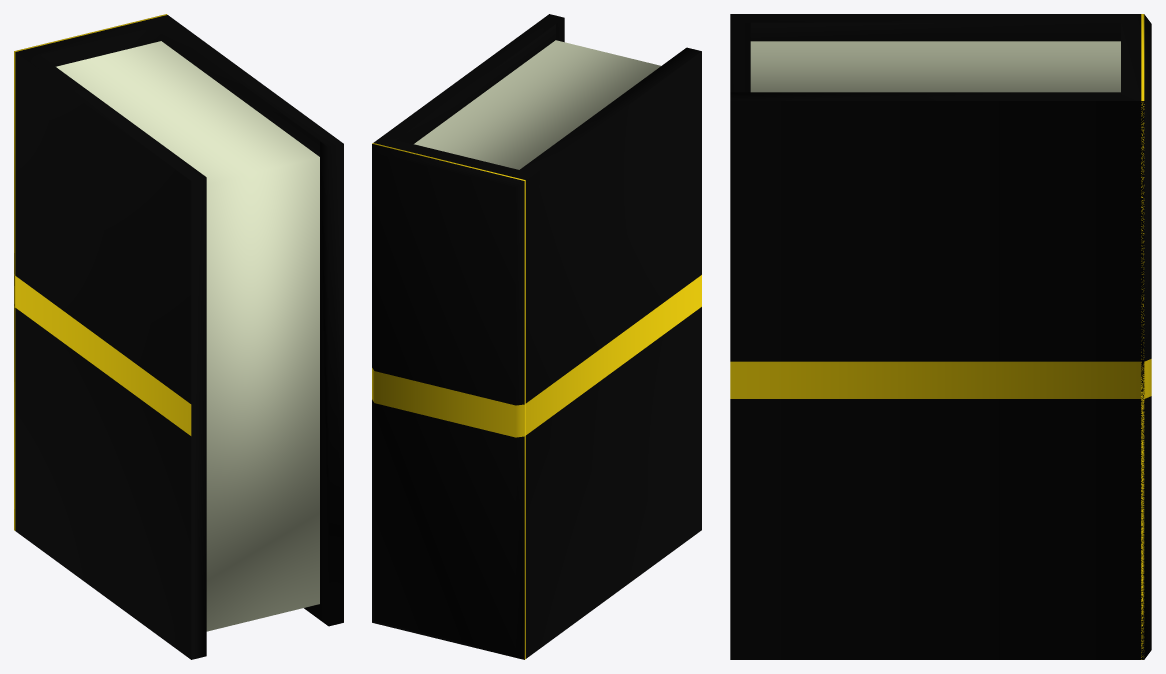
File: SingleBookBlack.fbx
3 renders of one model, left to right at view 1: azimuth 30°, elevation 25°; view 2: azimuth 150°, elevation 25°; view 3: azimuth 270°, elevation 25°, orthographic. The views are drawn at different scales.
Parts seen in each view (by area): view 1: Cube; view 2: Cube; view 3: Cube.
Part boxes in pixels (box(x1,y1,x2,y2)): Cube: box(14, 14, 343, 659); Cube: box(372, 14, 701, 659); Cube: box(730, 14, 1151, 659).
Bounding box in the file's own units: 10 × 30 × 20.5.
